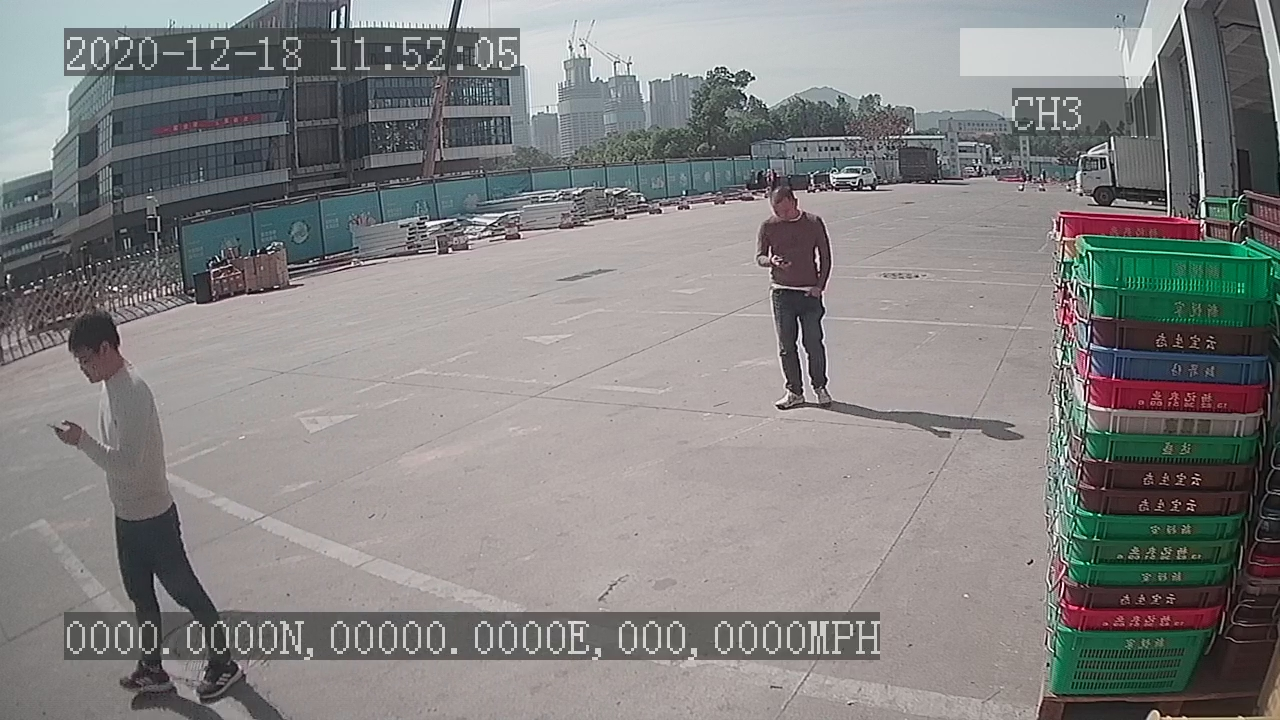person: (743, 181, 840, 413)
